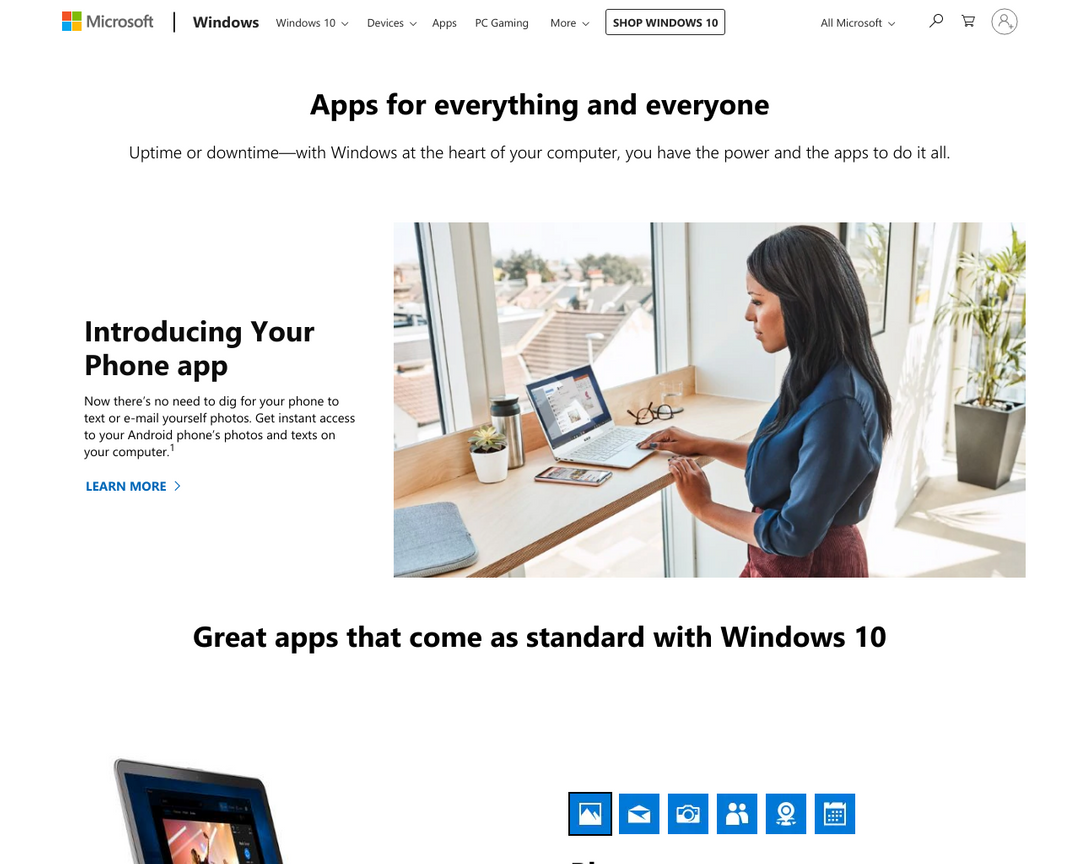Microsoft: (57, 6, 159, 32)
